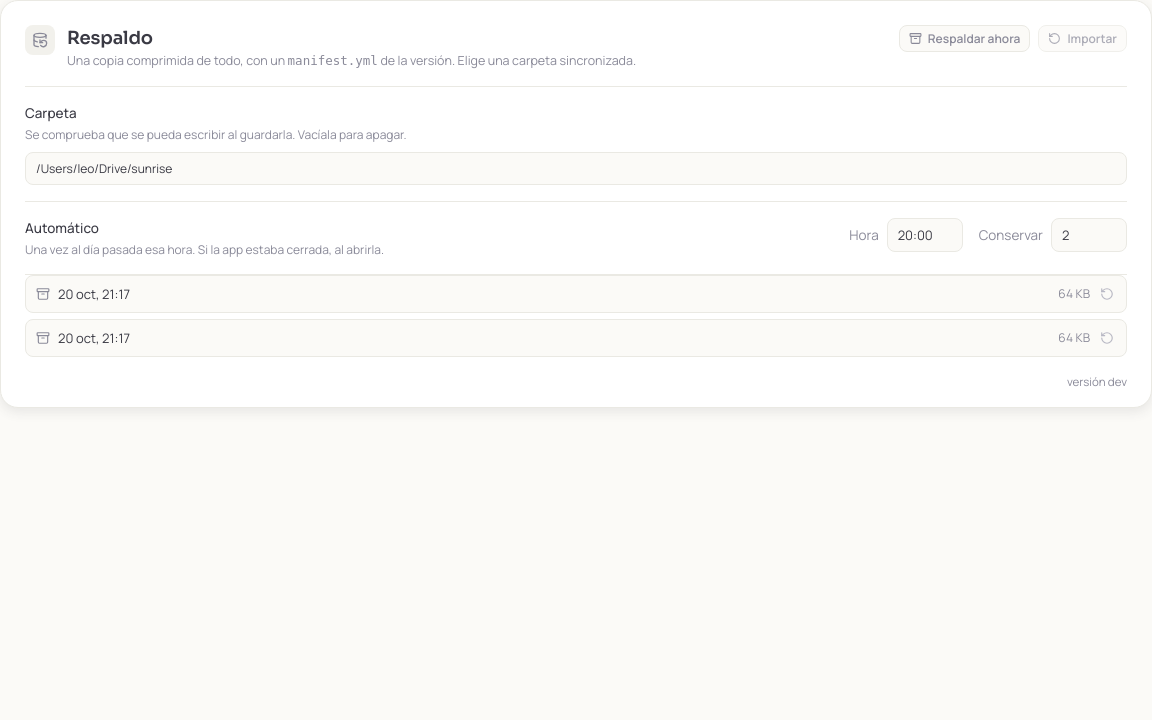
BackupCard · restaurar › se sale con Escape, y Enter no restaura
Click the button "Respaldar ahora" at (965, 38), box [899, 25, 1030, 52]
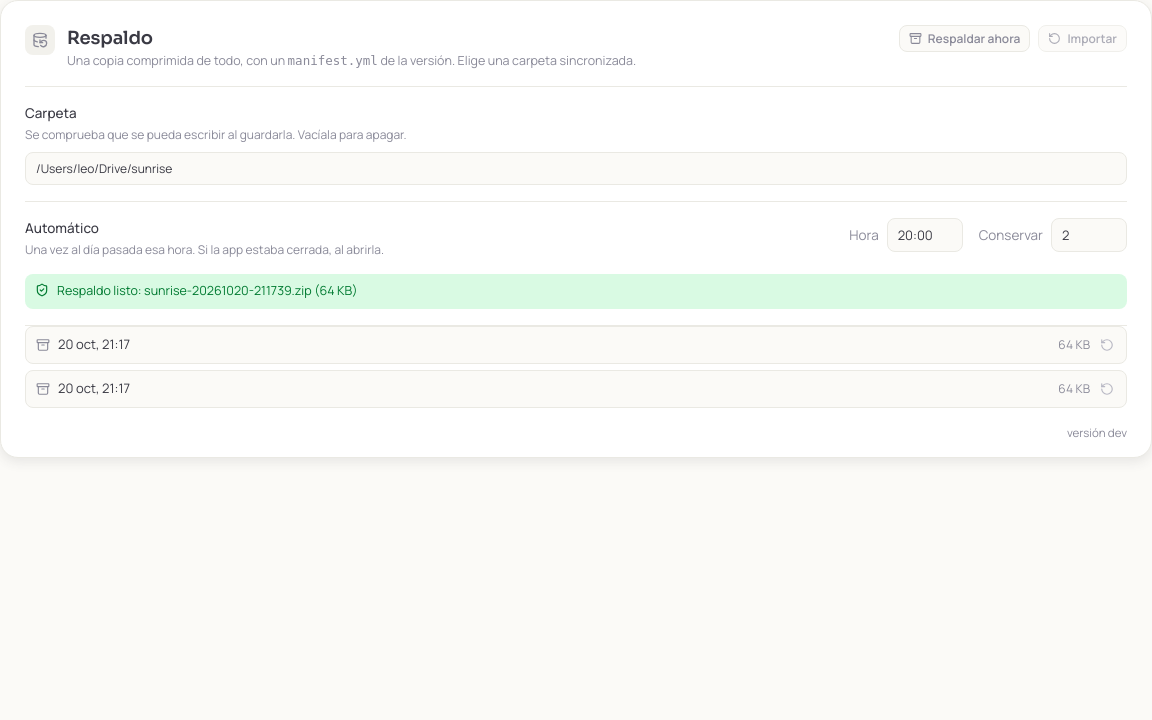
Click the 1st button named "Restaurar el respaldo del" at (1107, 344), box [1098, 336, 1116, 354]
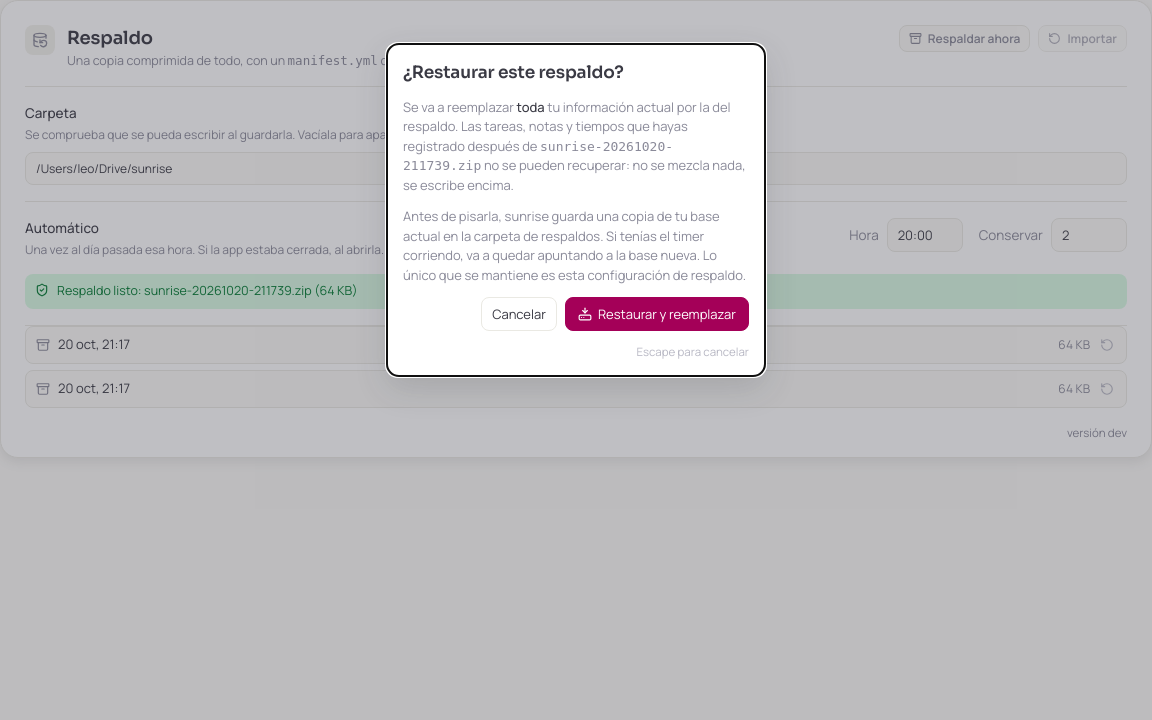
Expected: the dialog named "Confirmar restauración" is shown, [386, 43, 766, 378]
Press Enter
Expected: the dialog named "Confirmar restauración" is shown, [386, 43, 766, 378]
Press Escape
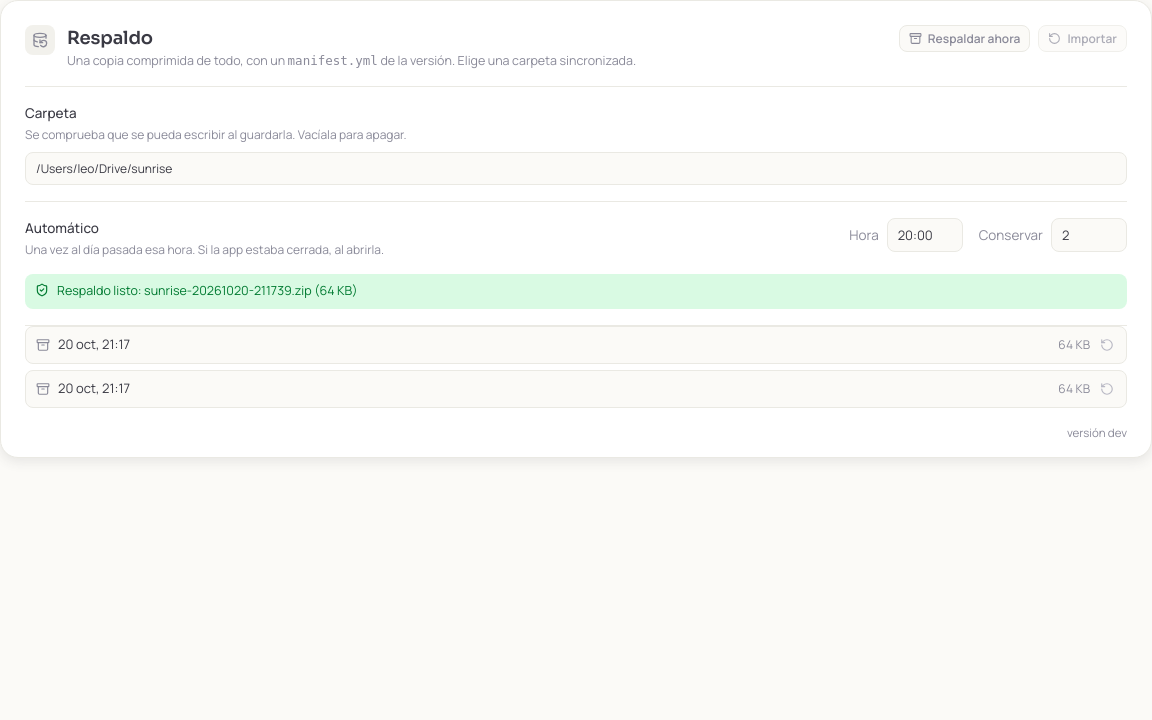
Expected: the dialog is gone
